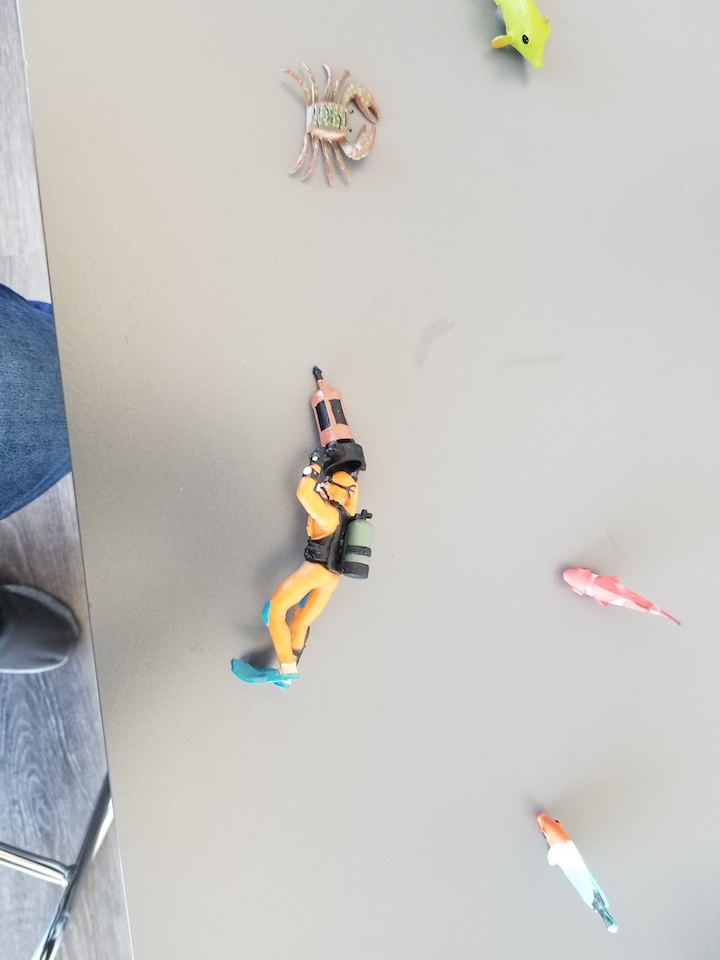crab: (277, 60, 381, 191)
diver: (225, 365, 381, 693)
fish: (533, 807, 623, 939), (553, 562, 691, 635), (486, 1, 559, 73)
